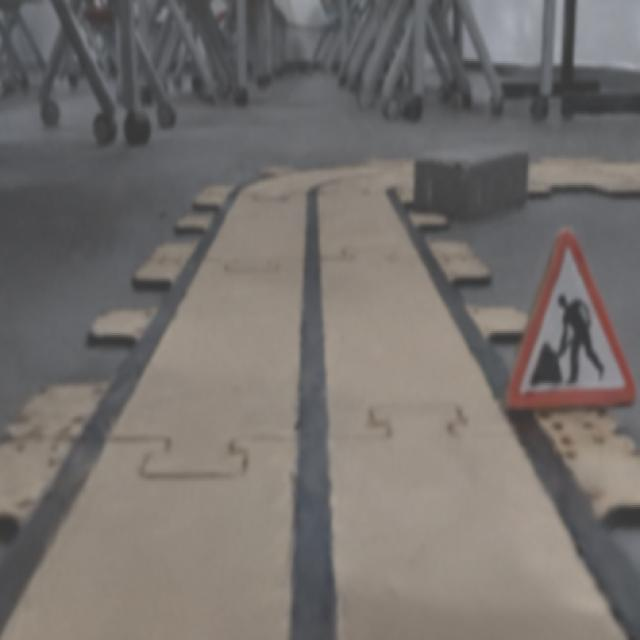WORKERS: (508, 231, 632, 407)
